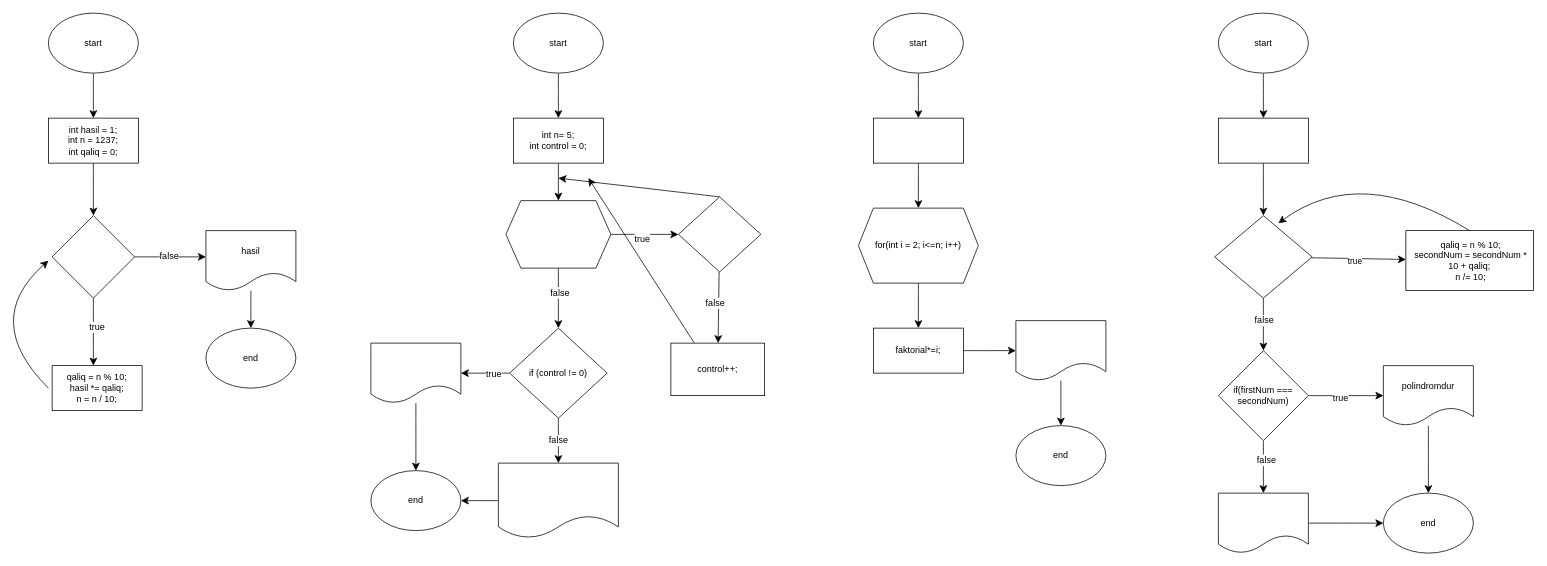
This 1547x566 diagram has some shape labels left out. Here are the shapes that lost their labels. From the top down, the centre of each, then its label:
point (918, 140): int faktorial = 1; n= 6;
point (1263, 140): int n = 122; int firstNum = n; int secondNum = 0; int qaliq = 0;
point (558, 234): for (int i = 2; i < n; i++)
point (719, 234): if(n%i ==0)
point (93, 256): while(n!=0)
point (1263, 256): while(n>0)
point (1060, 350): faktorial
point (415, 372): SADEDIR
point (558, 500): SADE DEYIL
point (1263, 522): polindrom deyil
